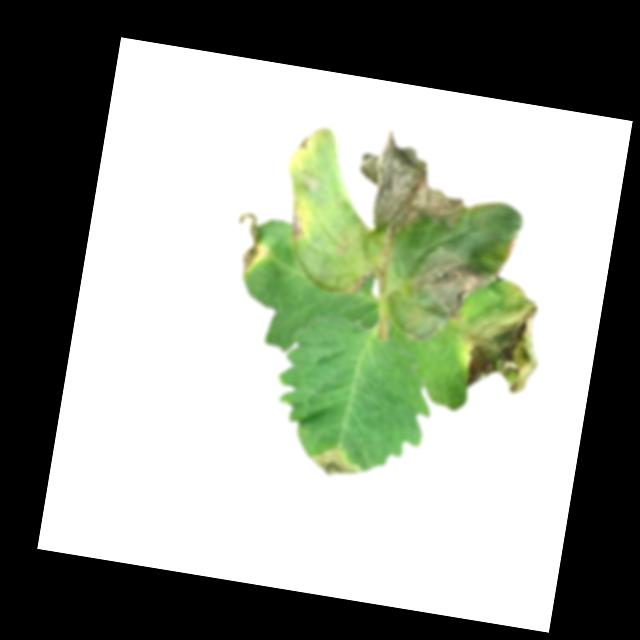Late_blight: (350, 125, 467, 247), (452, 276, 552, 400), (398, 242, 495, 349), (229, 211, 273, 276), (305, 447, 364, 481), (492, 232, 520, 280), (286, 208, 309, 244), (348, 264, 373, 296)
